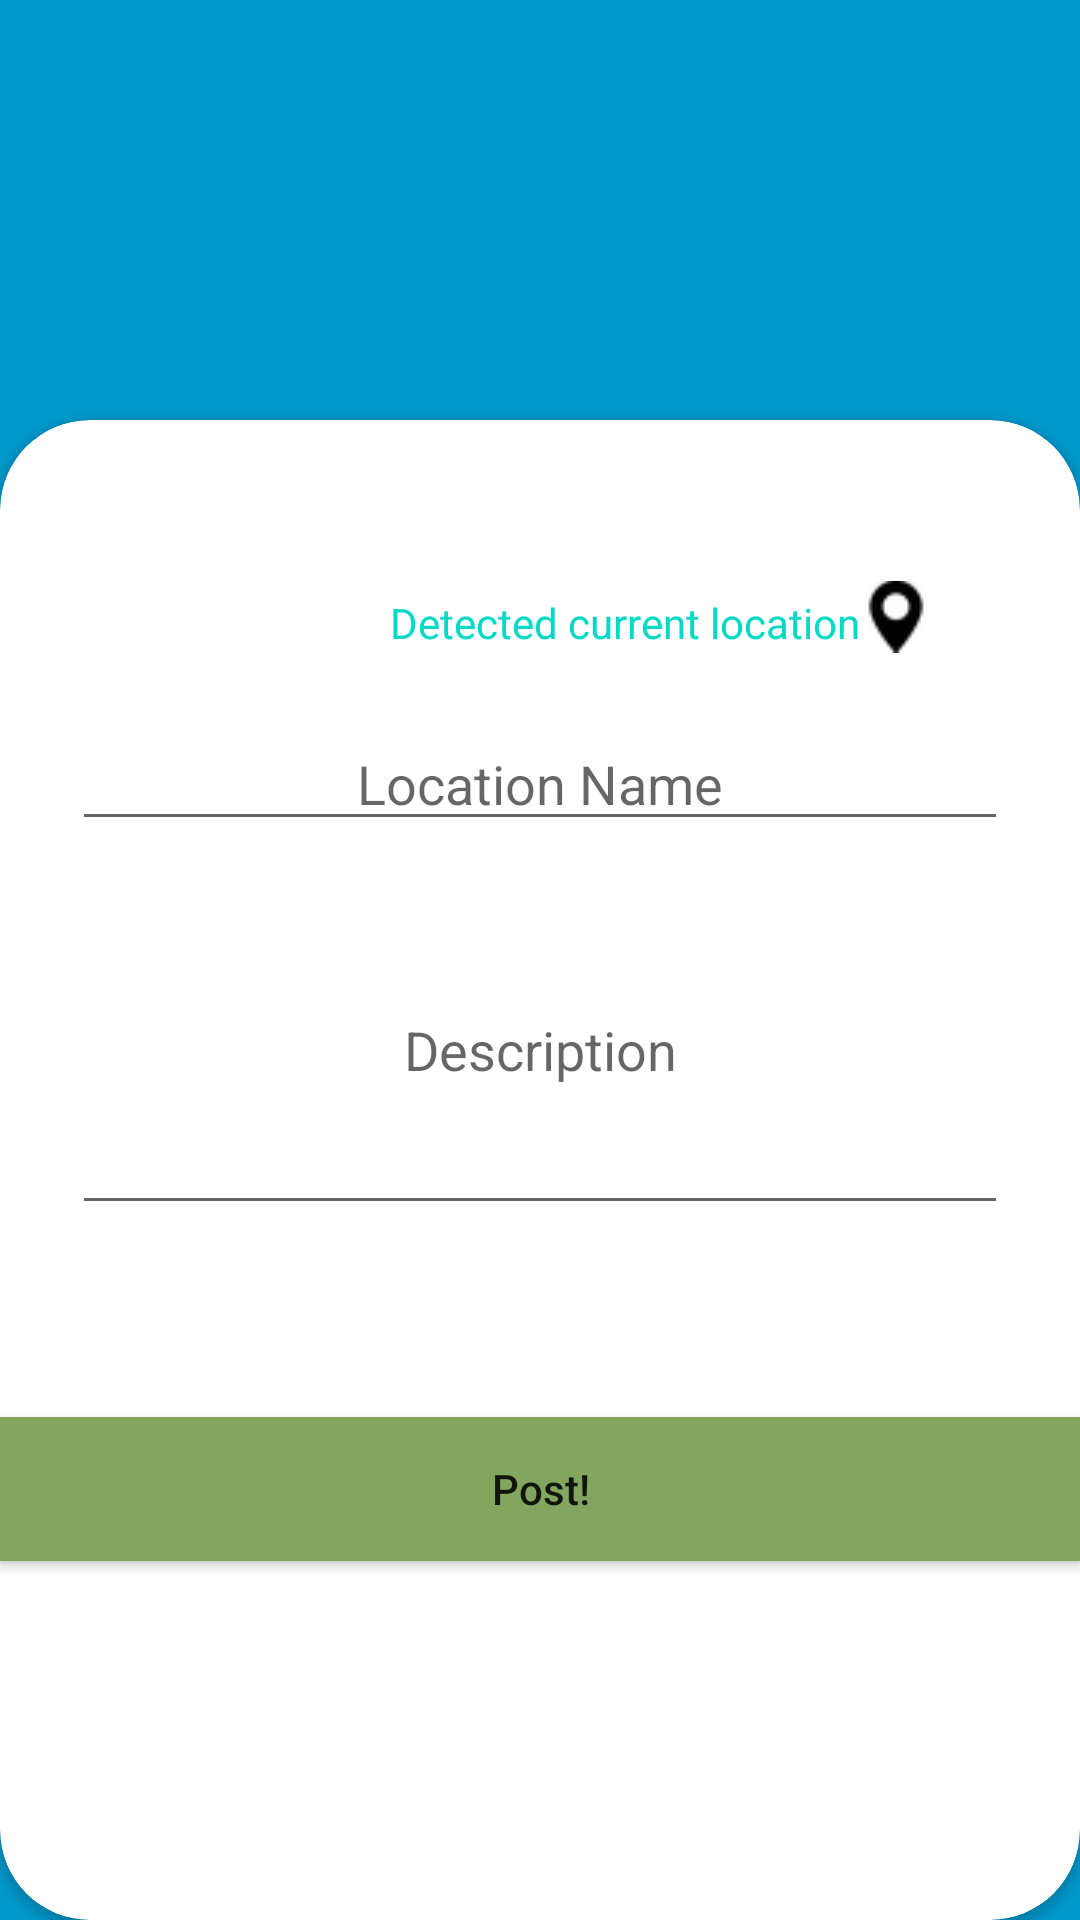

Icons on this 1080px×1920px Android screen, each with the point to tap as (x,y):
rsz pin: (896,617)
